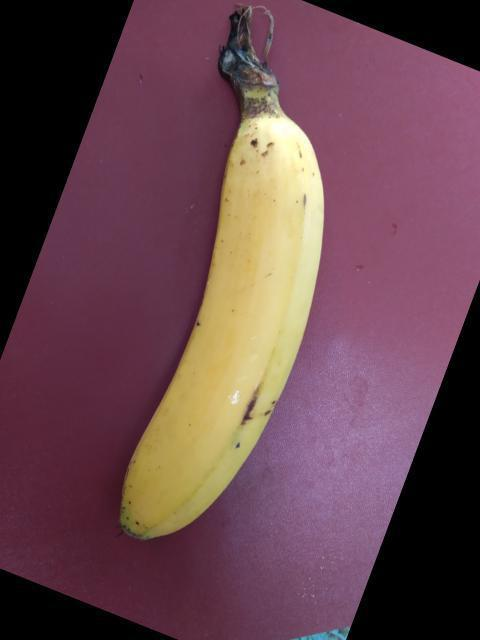freshripe: (103, 107, 347, 579)
